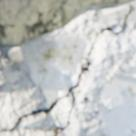brick: (0, 0, 134, 131), (58, 9, 135, 135), (0, 92, 72, 135)
crack: (0, 0, 135, 135), (84, 95, 90, 101)
